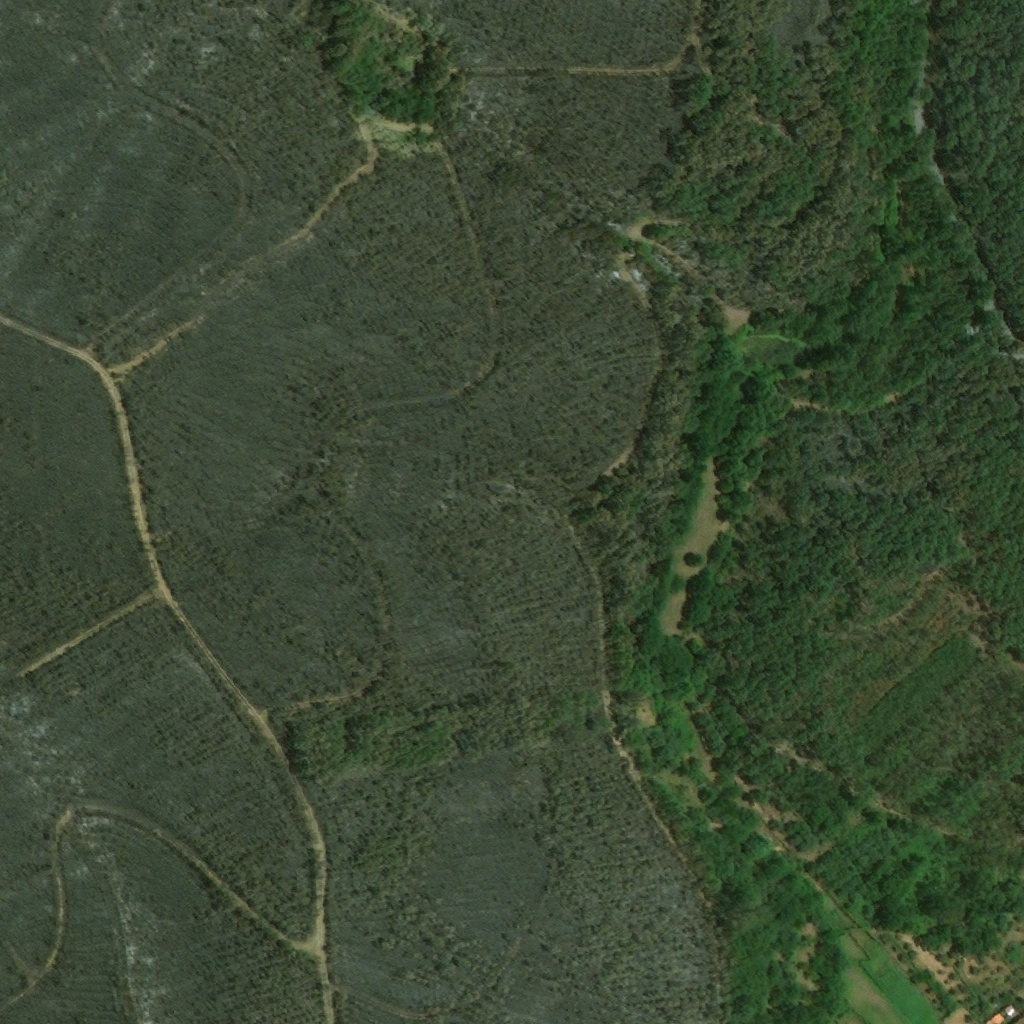0 no-damage: (998, 1002, 1017, 1019), (984, 1012, 1006, 1023)
4 un-classified: (953, 946, 978, 969)
